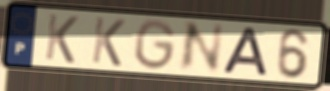6: (276, 28, 313, 81)
A: (220, 25, 271, 78)
G: (133, 17, 178, 73)
K: (42, 12, 81, 66), (89, 15, 127, 69)
N: (175, 20, 227, 74)
